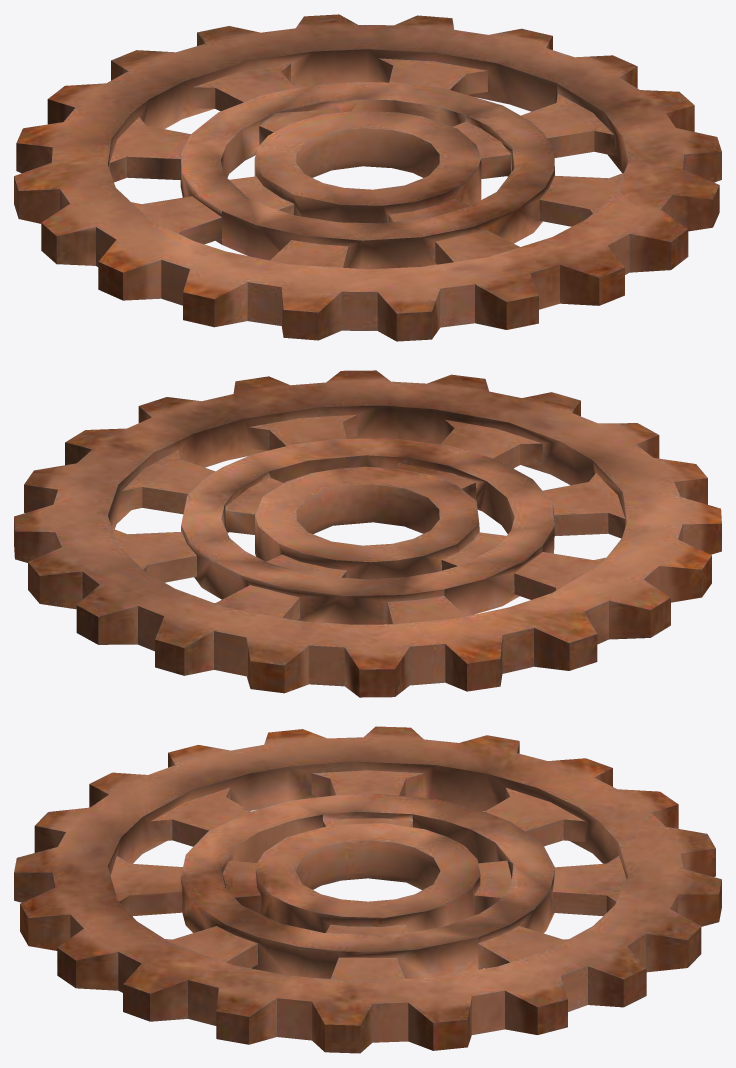
File: steampunk_gear_09.glb
The picture shows the model from 3 angles, top to bottom: view 1: azimuth 30°, elevation 25°; view 2: azimuth 150°, elevation 25°; view 3: azimuth 270°, elevation 25°; orthographic projection.
Parts seen in each view (by area): view 1: steampunk_gear_09; view 2: steampunk_gear_09; view 3: steampunk_gear_09.
Part boxes in pixels (x1,y1,x2,y2): steampunk_gear_09: (14,14,721,341); steampunk_gear_09: (14,370,721,697); steampunk_gear_09: (14,726,721,1053).
Size of what is drawn, in the model's own units: 0.1515 by 0.00922 by 0.1515.
1 material, 1 textured.
